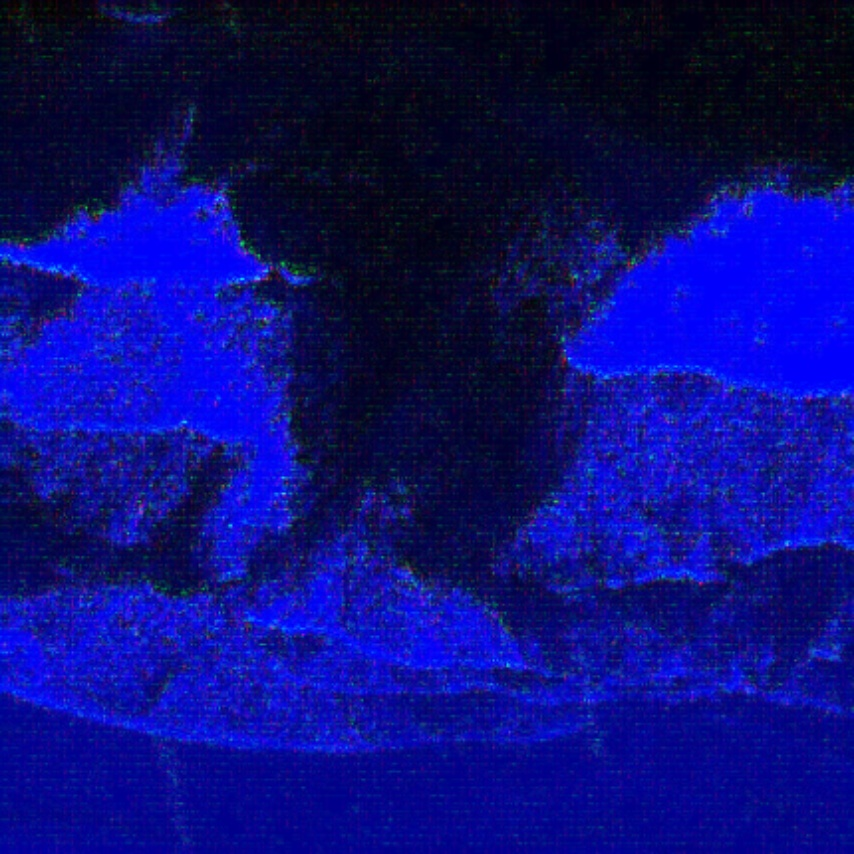rip_current: (158, 155, 634, 631)
